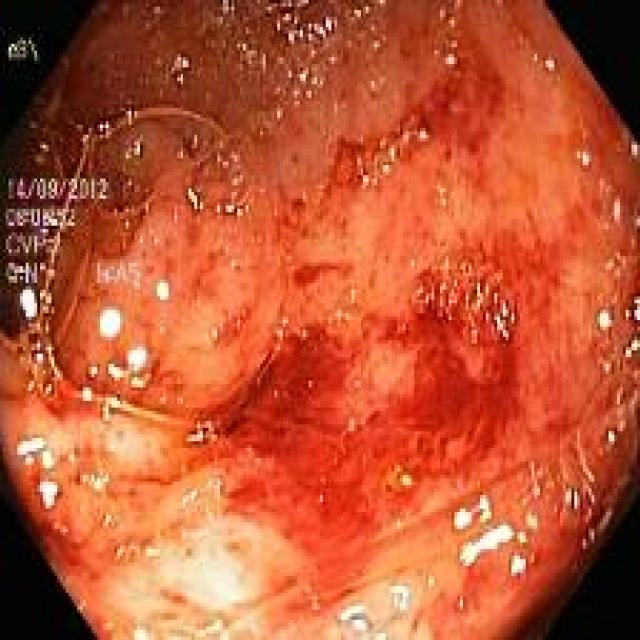ulcerative-colitis-grade-3: (0, 3, 640, 640)
